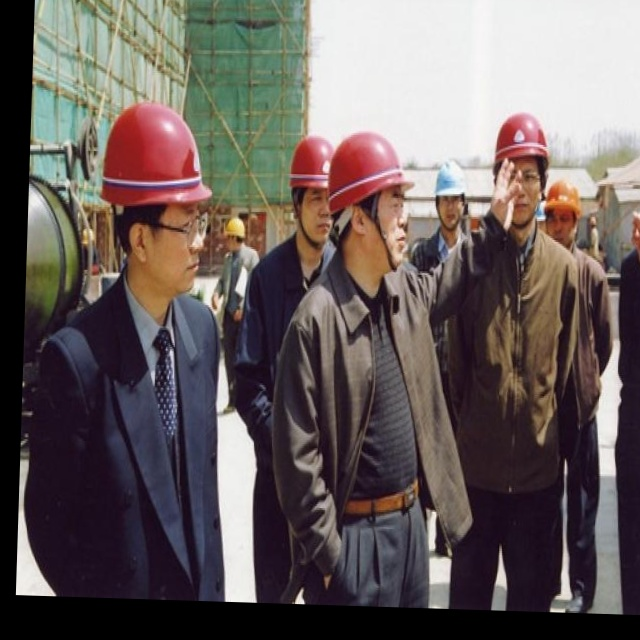Con_Casco: (103, 104, 213, 298), (327, 132, 414, 261)
Sin_Chaleco: (22, 295, 223, 588), (280, 261, 447, 538)
